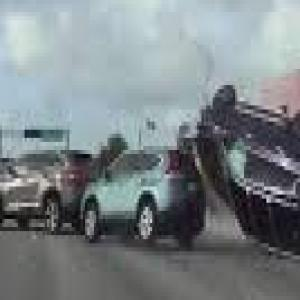serious: (195, 65, 300, 263)
superficial: (0, 122, 208, 243)
